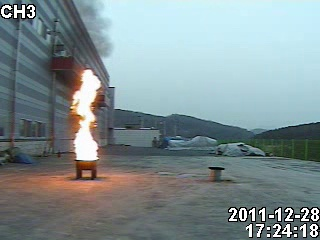fire: (70, 68, 102, 162)
